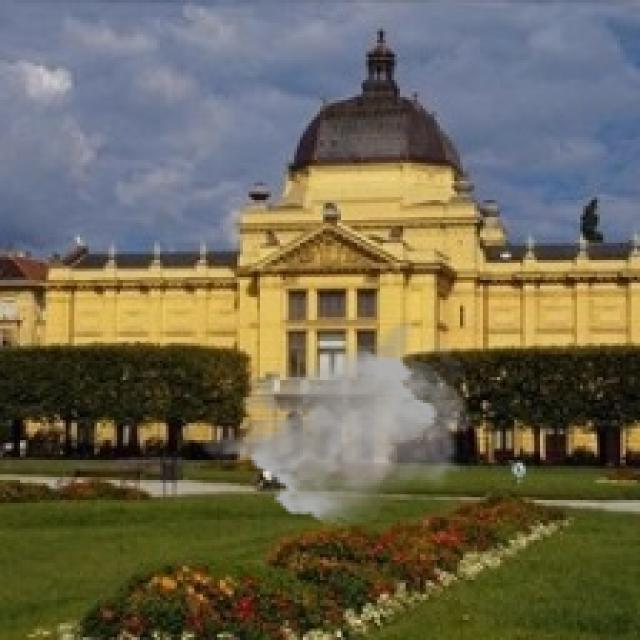Smoke: (197, 320, 474, 526)
